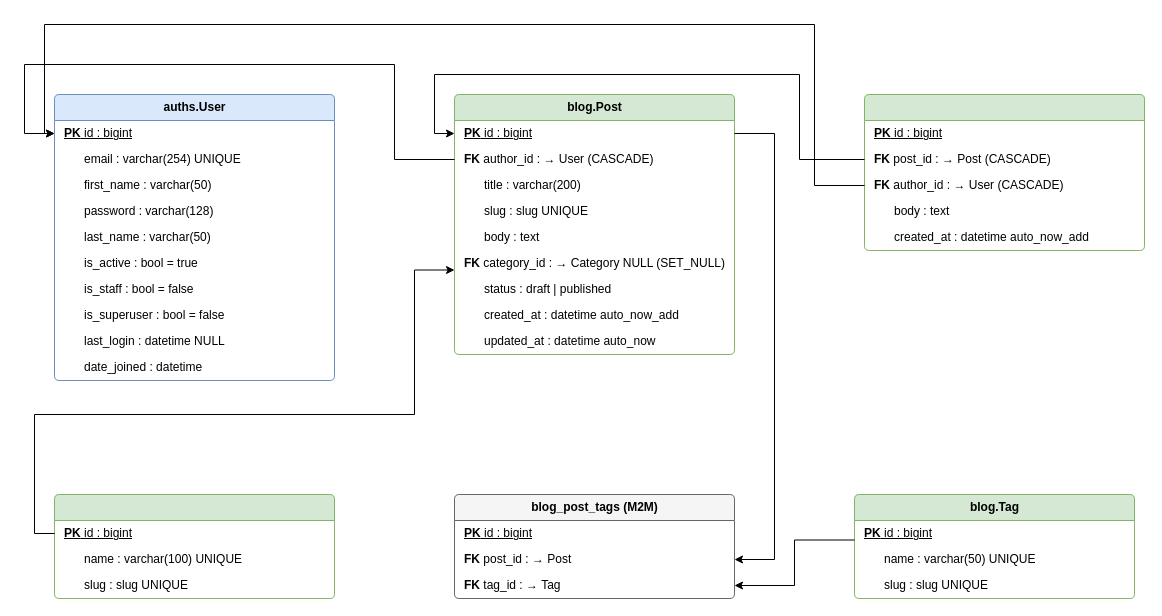
This 1162x616 diagram has some shape labels left out. The box of each missing label's shape, as (x1, y1, x2, y2) in pixels:
blog.Category: (54, 494, 334, 598)
blog.Comment: (864, 94, 1144, 250)
